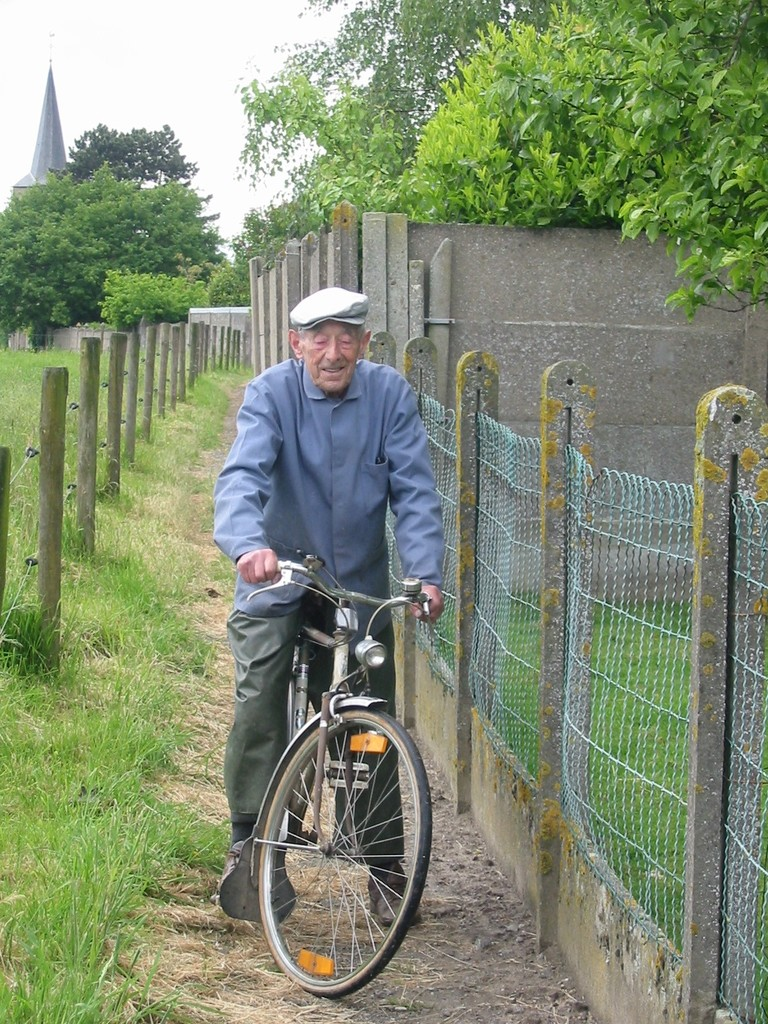Bike: (193, 574, 449, 976)
